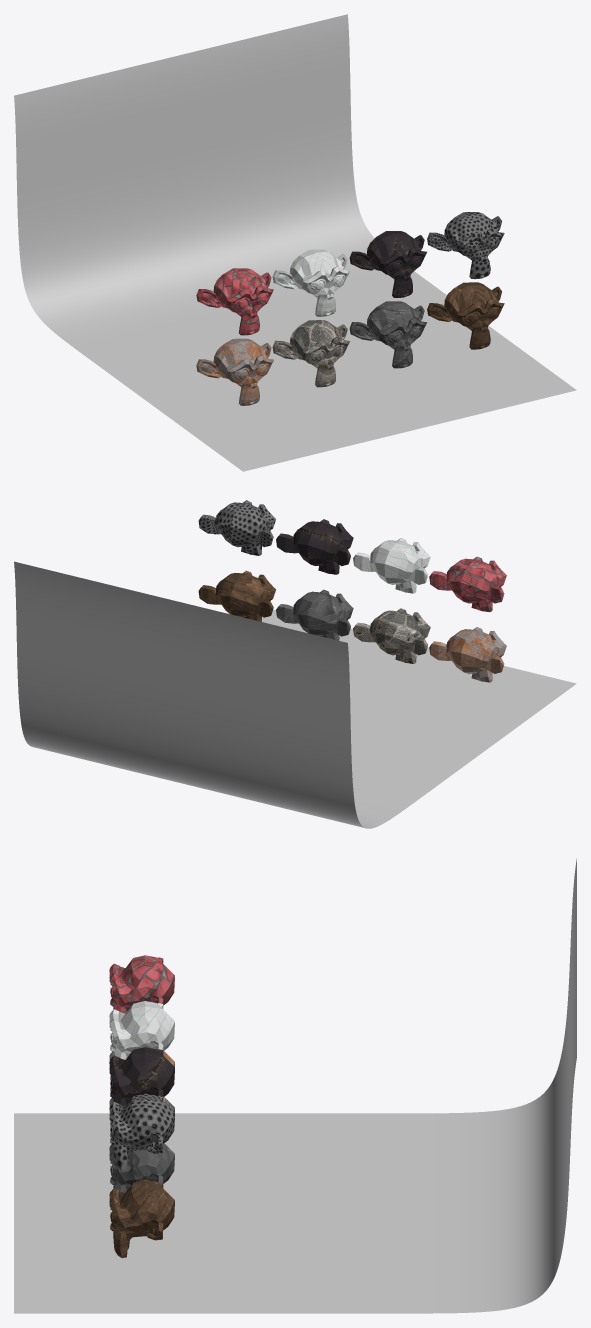
The model's file is textures_scene.obj.
The picture shows the model from 3 angles, top to bottom: view 1: azimuth 30°, elevation 25°; view 2: azimuth 150°, elevation 25°; view 3: azimuth 270°, elevation 25°; orthographic projection. The views are drawn at different scales.
Parts seen in each view (by area): view 1: SurfPatch, Suzanne, Suzanne.003, Suzanne.007, Suzanne.004, Suzanne.002, Suzanne.006, Suzanne.001, Suzanne.005; view 2: SurfPatch, Suzanne.002, Suzanne.005, Suzanne.006, Suzanne.007, Suzanne.004, Suzanne.003, Suzanne.001, Suzanne; view 3: SurfPatch, Suzanne, Suzanne.004, Suzanne.005, Suzanne.006, Suzanne.007, Suzanne.001.
Boxes of the visible parts, left/top/right/bottom form: SurfPatch: left=14, top=14, right=576, bottom=471; Suzanne: left=427, top=282, right=504, bottom=349; Suzanne.003: left=196, top=338, right=273, bottom=405; Suzanne.007: left=196, top=268, right=273, bottom=335; Suzanne.004: left=427, top=212, right=504, bottom=279; Suzanne.002: left=272, top=320, right=349, bottom=387; Suzanne.006: left=272, top=249, right=349, bottom=316; Suzanne.001: left=349, top=301, right=426, bottom=368; Suzanne.005: left=349, top=231, right=426, bottom=297; SurfPatch: left=14, top=561, right=576, bottom=828; Suzanne.002: left=353, top=608, right=430, bottom=663; Suzanne.005: left=276, top=519, right=353, bottom=574; Suzanne.006: left=353, top=538, right=430, bottom=593; Suzanne.007: left=429, top=556, right=506, bottom=612; Suzanne.004: left=198, top=500, right=275, bottom=555; Suzanne.003: left=429, top=627, right=506, bottom=682; Suzanne.001: left=276, top=589, right=353, bottom=640; Suzanne: left=198, top=570, right=275, bottom=621; SurfPatch: left=14, top=858, right=576, bottom=1313; Suzanne: left=109, top=1180, right=174, bottom=1258; Suzanne.004: left=109, top=1093, right=174, bottom=1171; Suzanne.005: left=109, top=1047, right=174, bottom=1106; Suzanne.006: left=109, top=1001, right=174, bottom=1059; Suzanne.007: left=109, top=955, right=174, bottom=1013; Suzanne.001: left=109, top=1143, right=174, bottom=1192.
Bounding box in the file's own units: 12.28 × 7.32 × 14.59.
